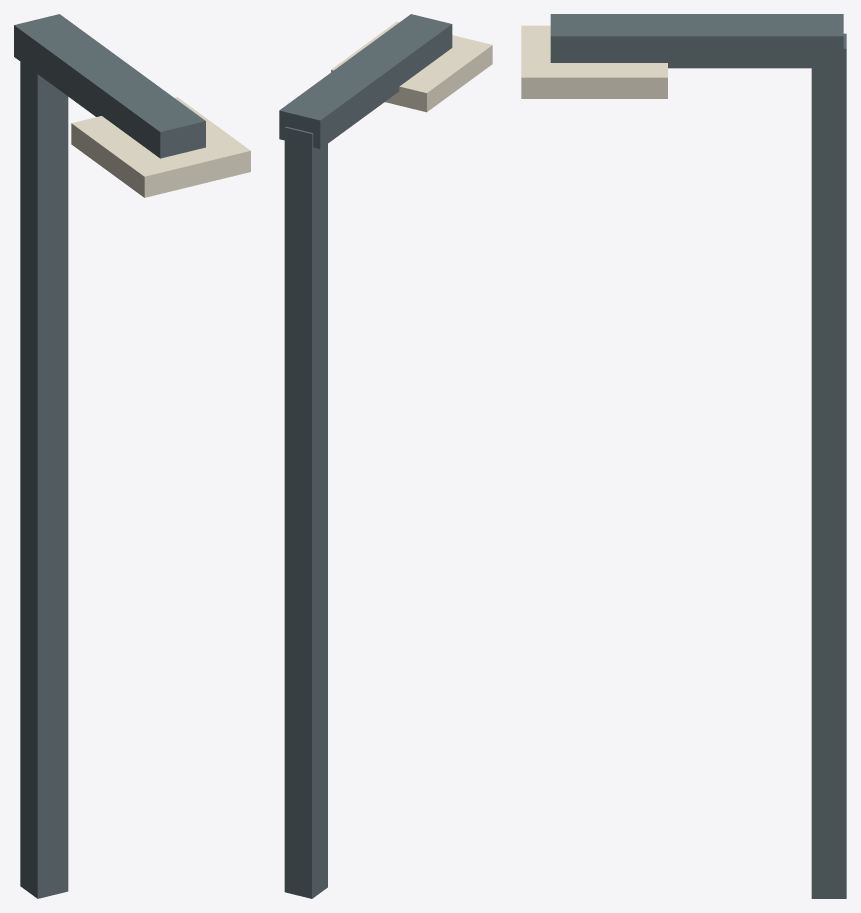
The model's file is street-lamp.glb.
3 views of the same model, side by side, from view 1: azimuth 30°, elevation 25°; view 2: azimuth 150°, elevation 25°; view 3: azimuth 270°, elevation 25° (orthographic). The views are drawn at different scales.
Size of the model in its own units: 0.42 by 3.26 by 1.11.
